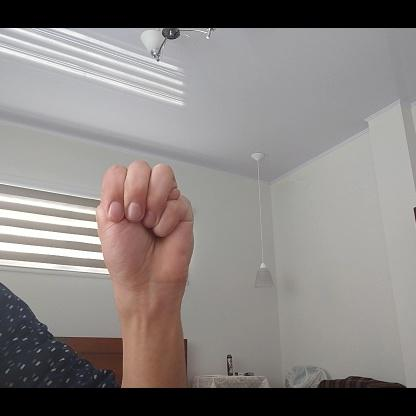M: (95, 158, 198, 290)
